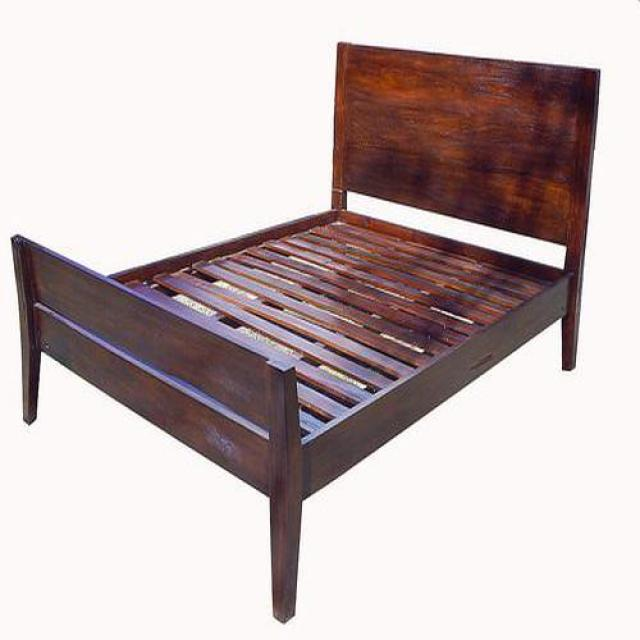bed: (13, 45, 602, 626)
